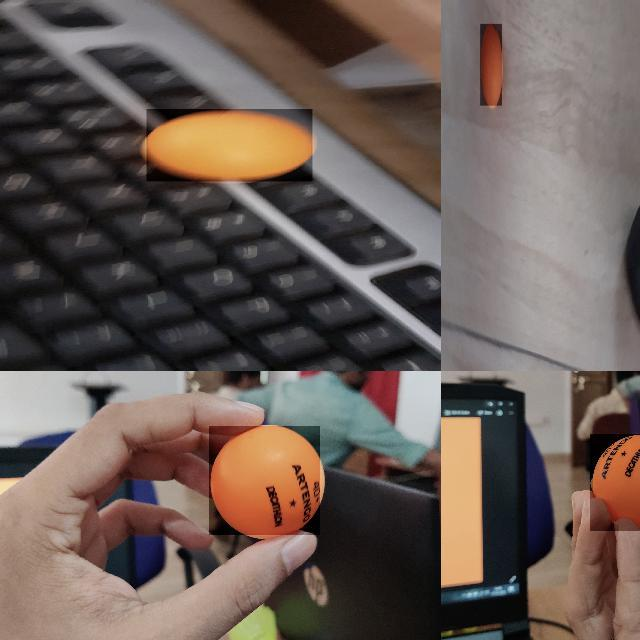ping-pong-ball: (208, 426, 322, 536), (146, 109, 314, 182), (590, 434, 639, 533), (480, 24, 502, 107)
